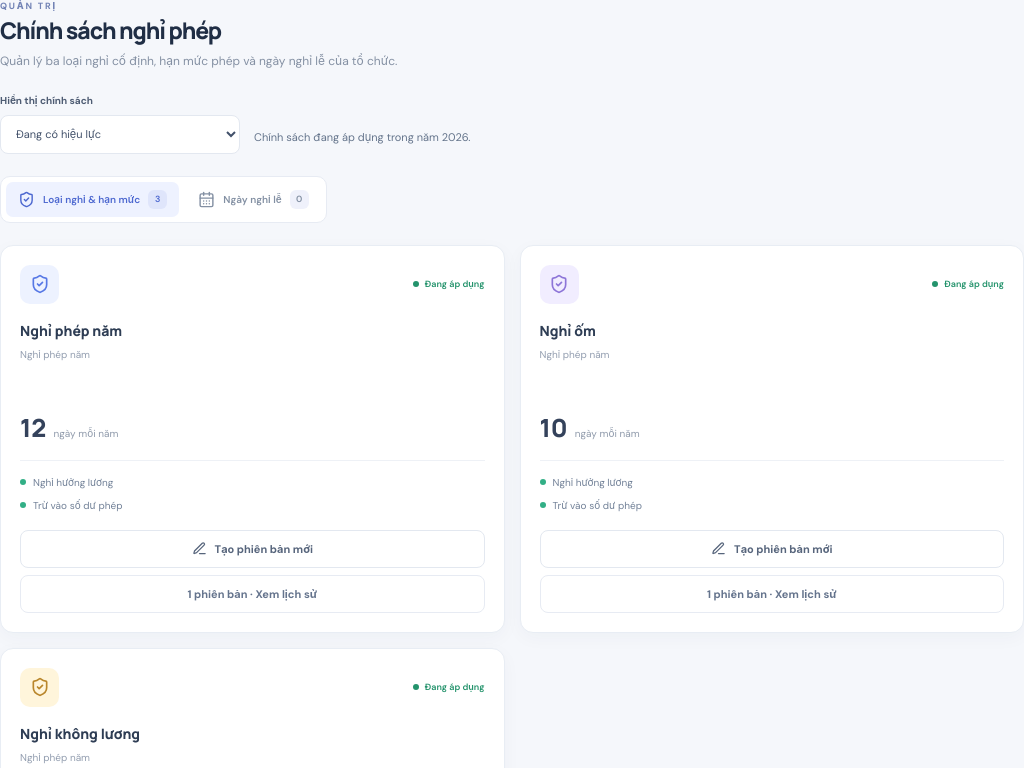
Test: PoliciesPage › allows current-year policy versions from the current business date onward
Expected: the heading "Nghỉ phép năm" is shown, [20, 320, 122, 340]
Expected: the dropdown labelled "Hiển thị chính sách" shows "Đang có hiệu lực", [0, 114, 240, 154]
Click the button "Tạo phiên bản mới" below "12": (252, 548) [20, 530, 484, 568]
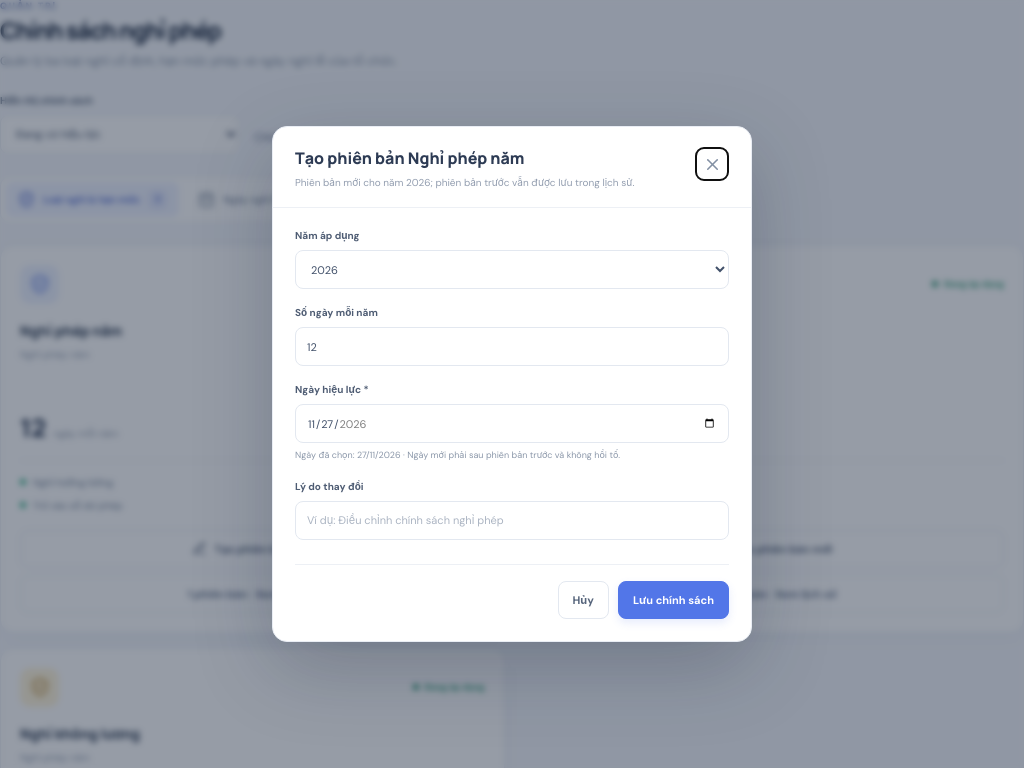
Result: the dropdown labelled "Năm áp dụng" shows "2026" at [295, 250, 729, 289]
